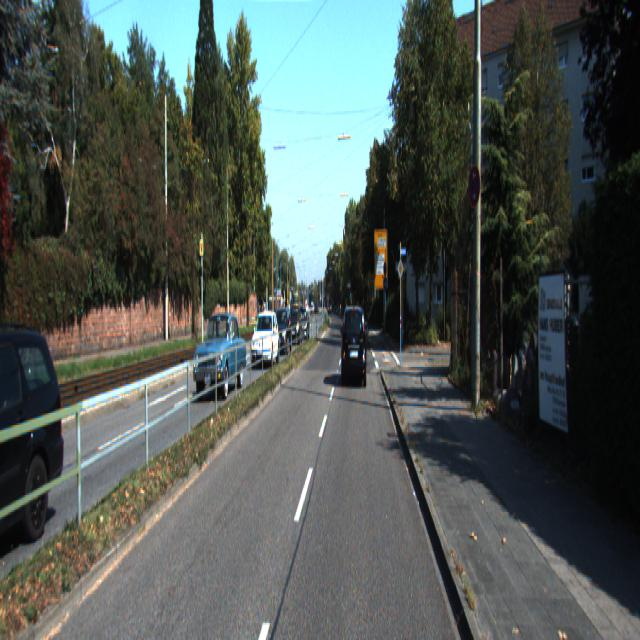Car: (0, 318, 76, 562), (194, 312, 248, 400), (342, 305, 369, 390), (250, 311, 280, 370), (272, 308, 293, 358), (288, 306, 304, 348)
